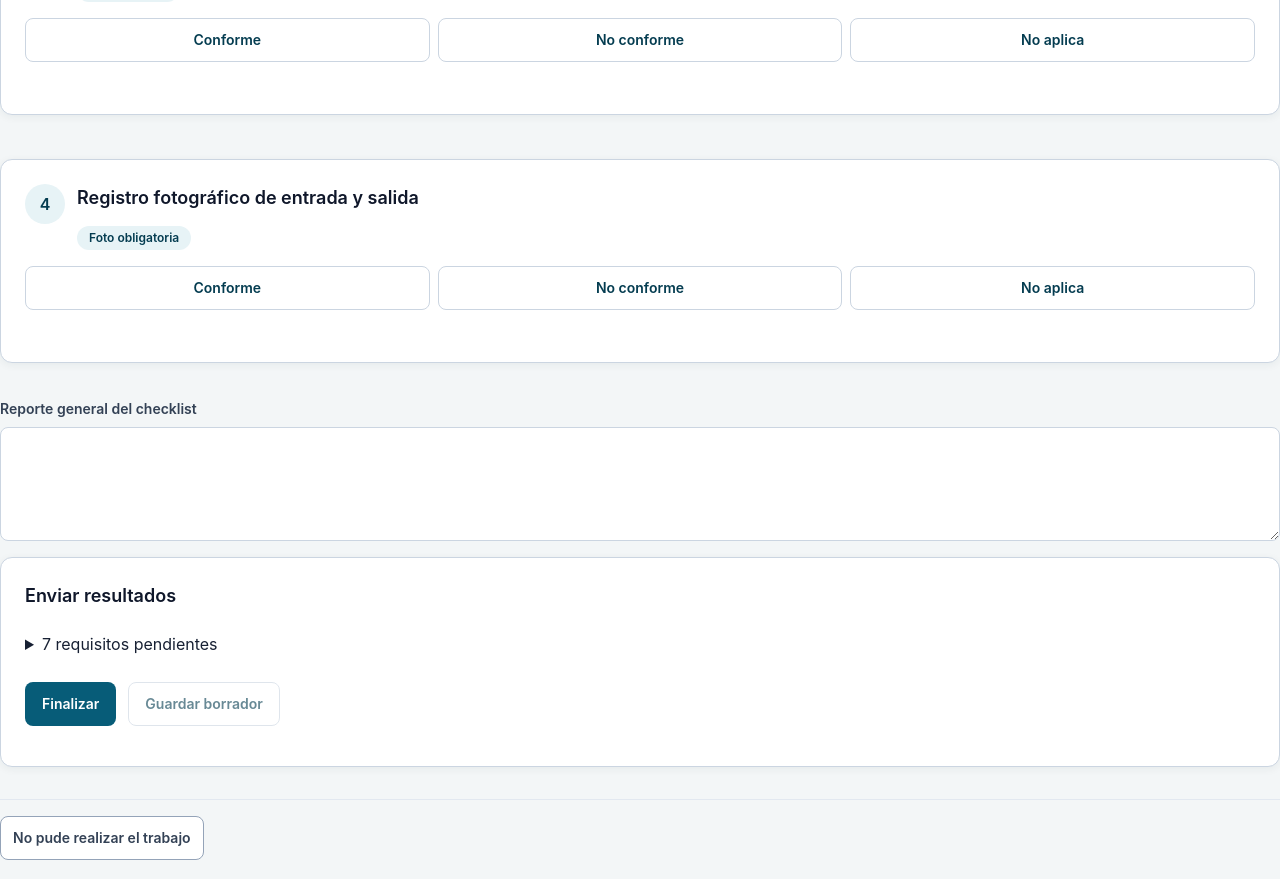
Test case: Corrección requerida conserva inicio, fin físico, plazo y envío previo al declarar No realizado
The image size is (1280, 879).
(page scrolled)
Click the button "No pude realizar el trabajo".
click(102, 838)  # box [0, 816, 204, 860]
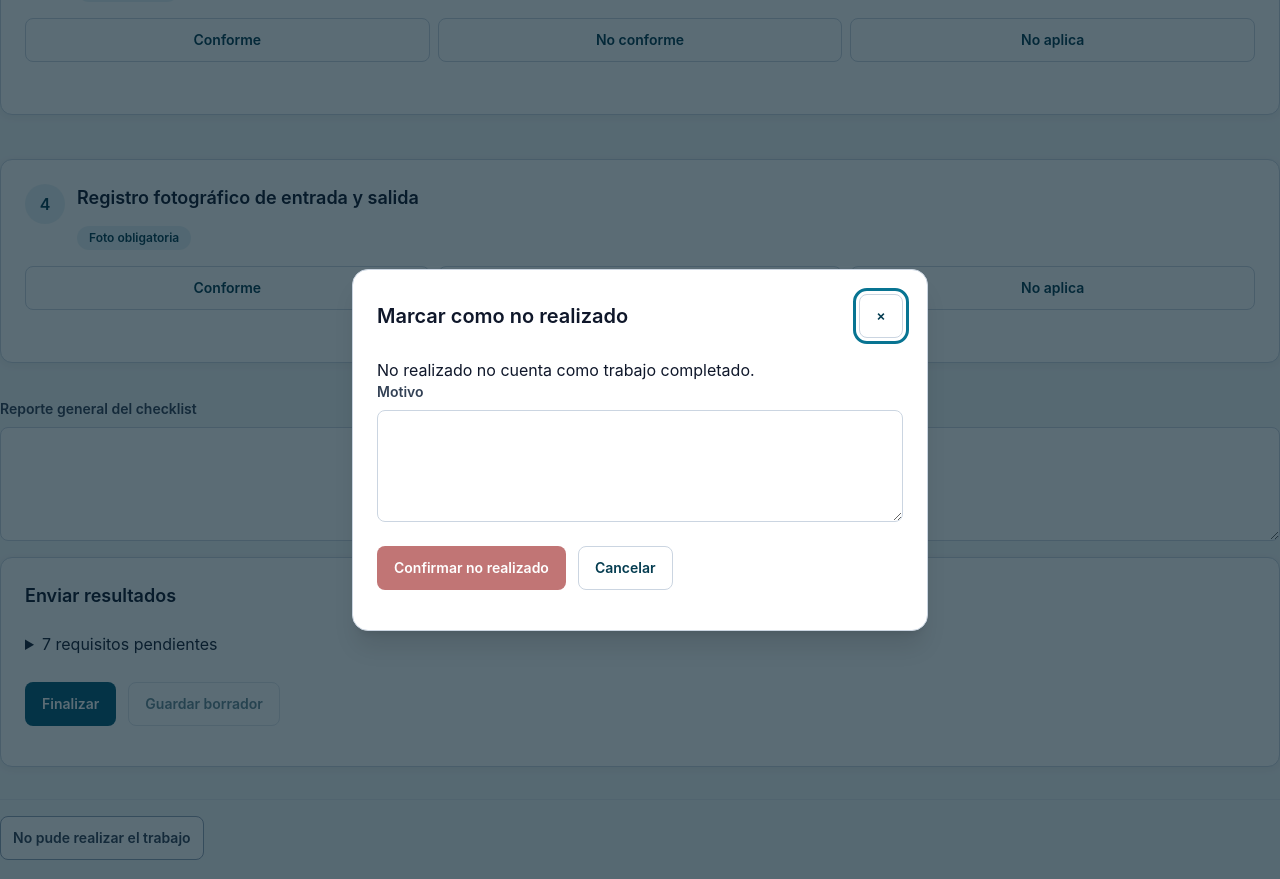
Type "No fue posible acceder al equipo de la tienda." into the text box labelled "Motivo".
click(640, 466); type("No fue posible acceder al equipo de la tienda.")  # box [377, 410, 903, 522]
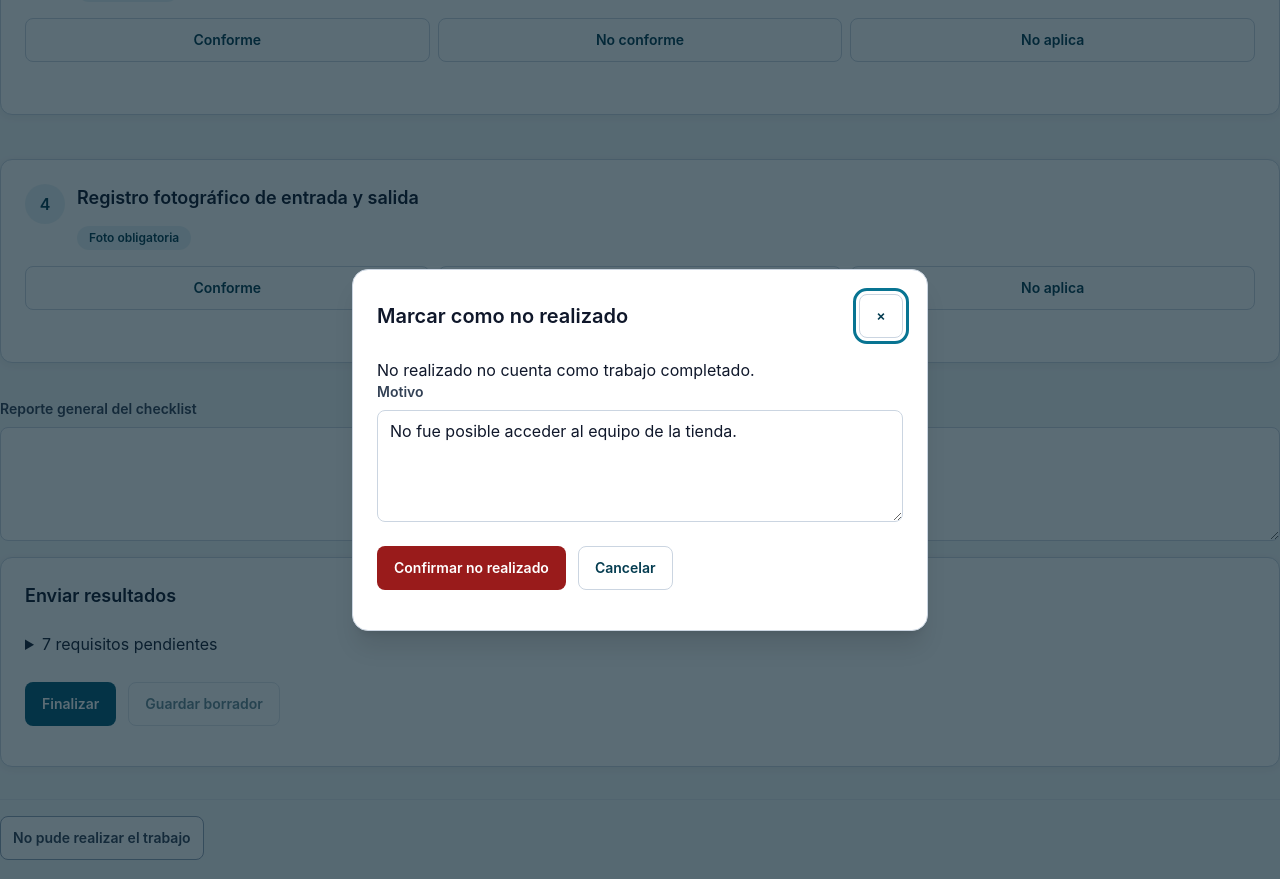
Click the button "Confirmar no realizado".
click(471, 568)  # box [377, 546, 566, 590]
(page scrolled)
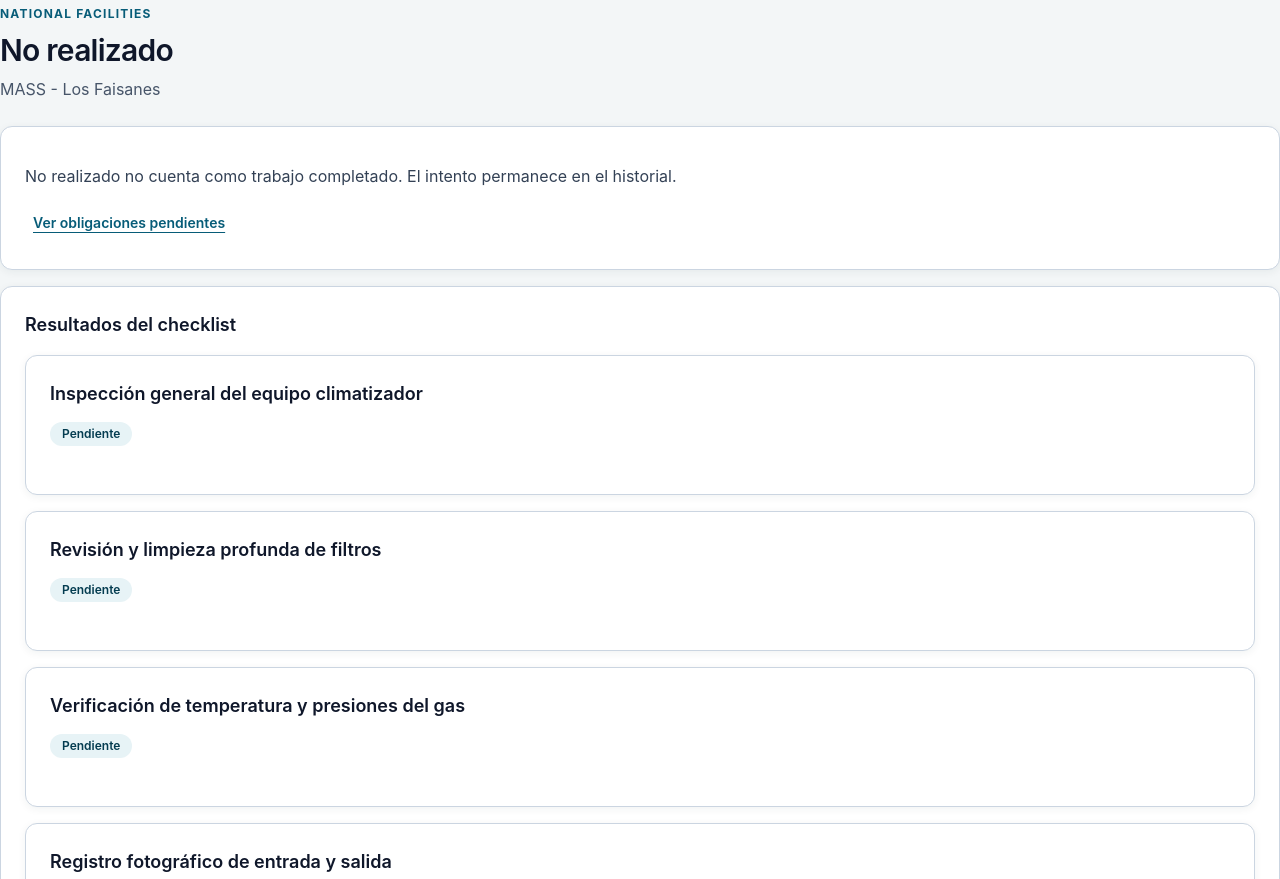
Result: the heading "No realizado" is shown at [0, 32, 173, 68]
